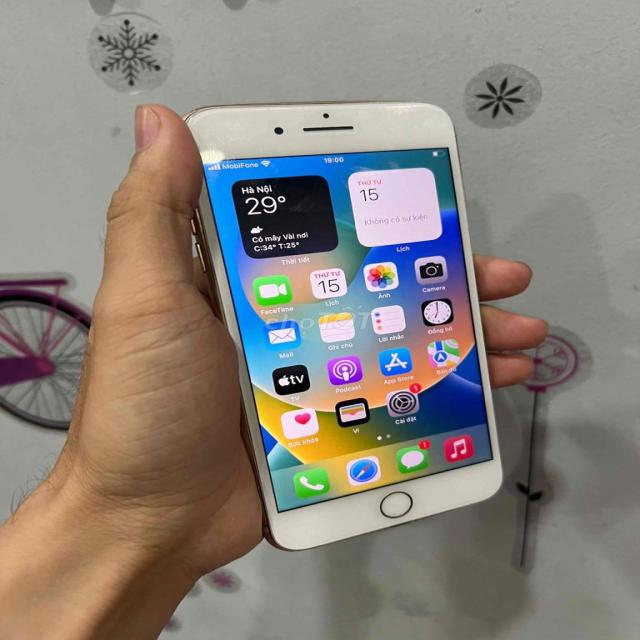gen_7_8: (170, 88, 519, 552)
